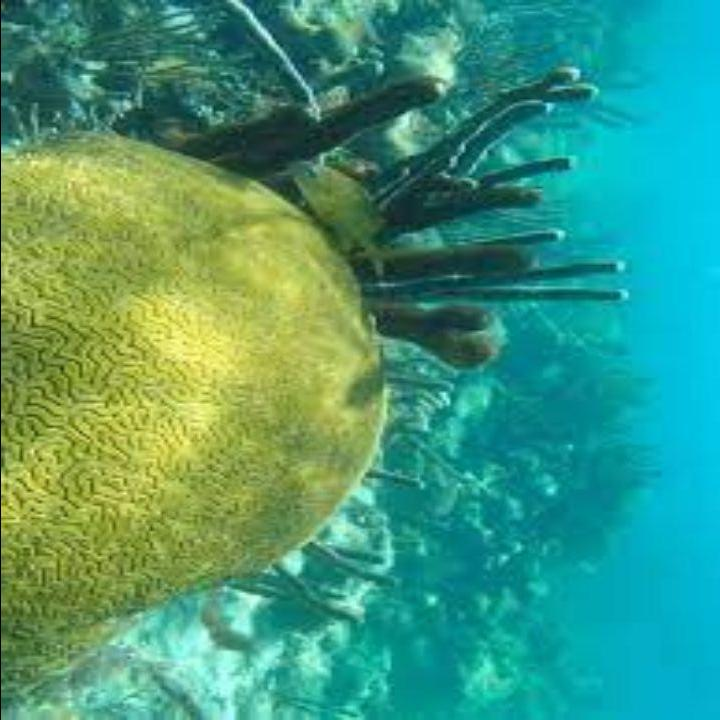Healthy Coral: (14, 122, 400, 680)
